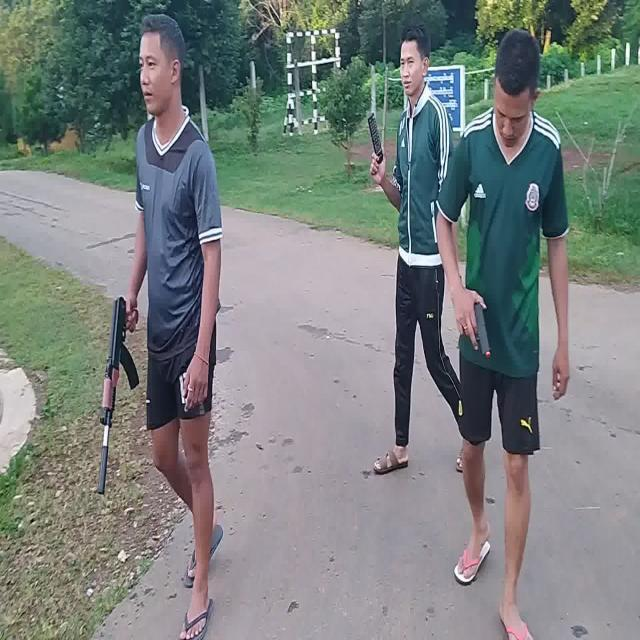gun: (97, 296, 139, 492), (474, 305, 490, 357)
